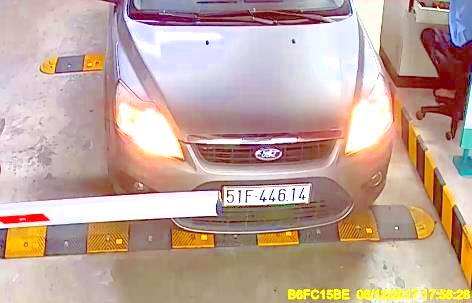plate: (218, 180, 315, 207)
